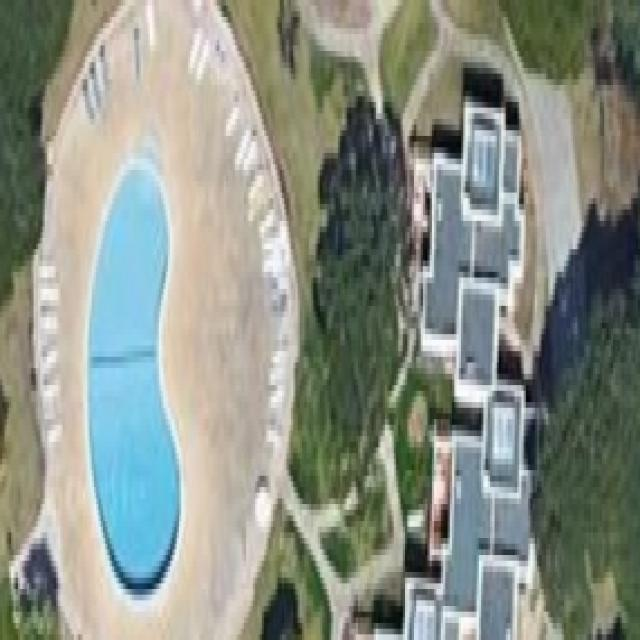swimming pool: (85, 153, 181, 595)
